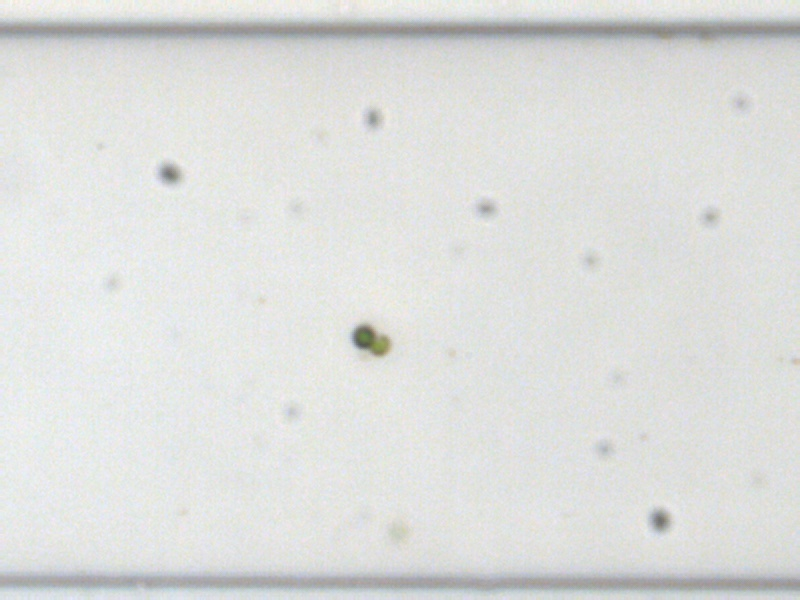Chlorella: (349, 322, 375, 348), (387, 519, 409, 538), (370, 333, 389, 354)
